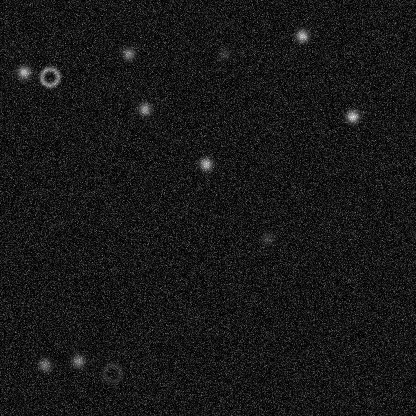Ring: (100, 361, 124, 385), (37, 64, 61, 88)
Spot: (197, 155, 213, 171), (70, 352, 86, 368), (120, 45, 136, 61), (294, 27, 310, 43), (36, 356, 52, 372), (215, 46, 231, 62), (344, 108, 360, 124), (259, 230, 275, 246), (136, 101, 152, 117), (15, 64, 31, 80)
